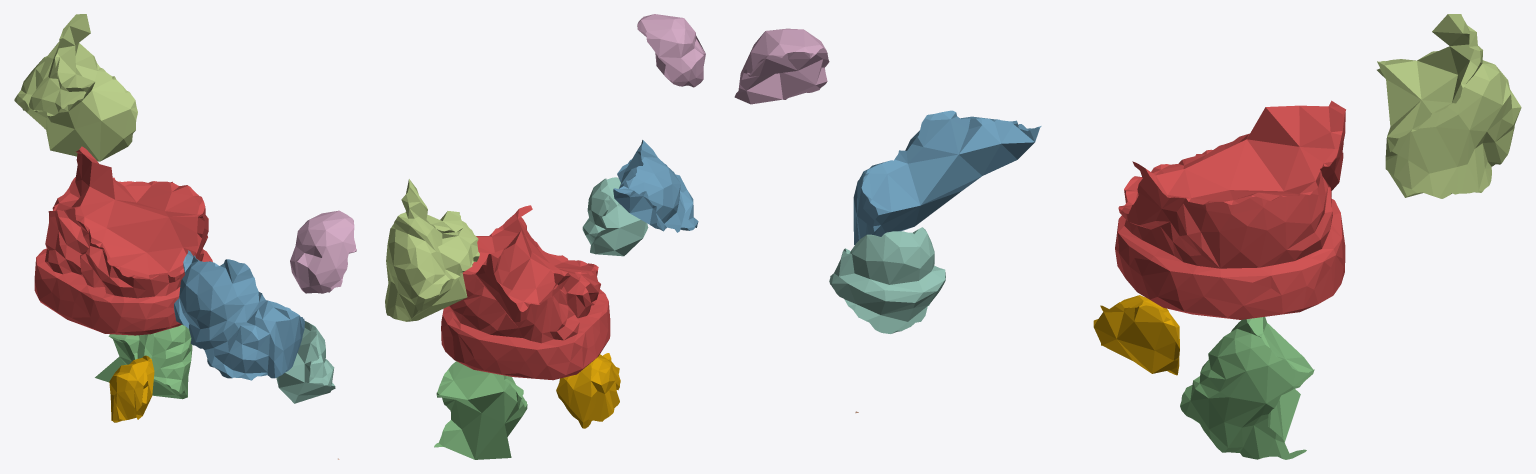
Rendered from mode_13_8pcs_transformed.glb.
The picture shows the model from 3 angles, left to right: view 1: azimuth 30°, elevation 25°; view 2: azimuth 150°, elevation 25°; view 3: azimuth 270°, elevation 25°; orthographic projection. The views are drawn at different scales.
Visible parts, largest first — view 1: piece_1.obj, piece_2.obj, piece_5.obj, piece_6.obj, piece_3.obj, piece_4.obj, piece_0.obj; view 2: piece_1.obj, piece_5.obj, piece_3.obj, piece_2.obj, piece_6.obj, piece_4.obj, piece_0.obj; view 3: piece_1.obj, piece_5.obj, piece_2.obj, piece_3.obj, piece_4.obj, piece_6.obj, piece_0.obj.
Boxes of the visible parts, x1,y1,x2,y2 form: piece_1.obj: [34, 146, 212, 335]; piece_2.obj: [174, 250, 304, 380]; piece_5.obj: [14, 14, 137, 161]; piece_6.obj: [290, 210, 356, 293]; piece_3.obj: [95, 324, 192, 399]; piece_4.obj: [276, 321, 335, 403]; piece_0.obj: [109, 355, 154, 422]; piece_1.obj: [441, 205, 610, 380]; piece_5.obj: [385, 179, 479, 321]; piece_3.obj: [434, 361, 527, 459]; piece_2.obj: [613, 140, 698, 232]; piece_6.obj: [637, 14, 705, 87]; piece_4.obj: [582, 177, 648, 256]; piece_0.obj: [556, 353, 620, 428]; piece_1.obj: [1115, 100, 1345, 319]; piece_5.obj: [1377, 14, 1521, 198]; piece_2.obj: [853, 110, 1041, 244]; piece_3.obj: [1180, 317, 1314, 459]; piece_4.obj: [829, 227, 945, 333]; piece_6.obj: [734, 28, 829, 104]; piece_0.obj: [1093, 295, 1179, 375].
Size of the model in its own units: 0.6824 by 1.45 by 2.39.
